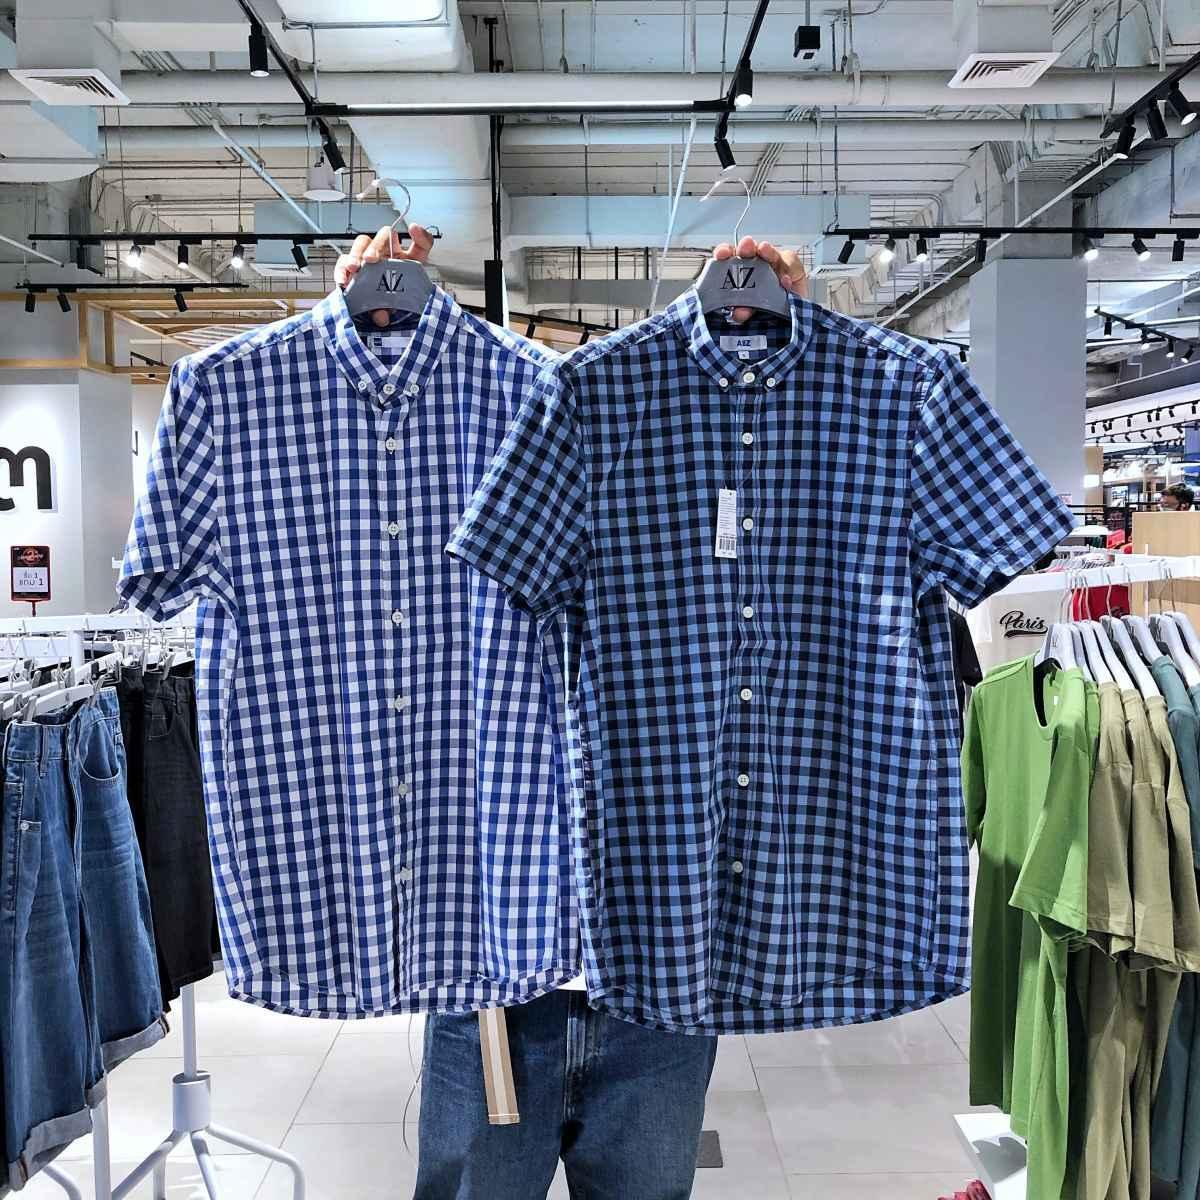shirt: (500, 296, 1027, 1010), (124, 298, 571, 1010)
